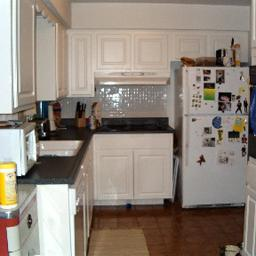Electrodomestico: (174, 67, 245, 205), (41, 168, 88, 255)
Lavaplatos: (37, 121, 81, 161)
